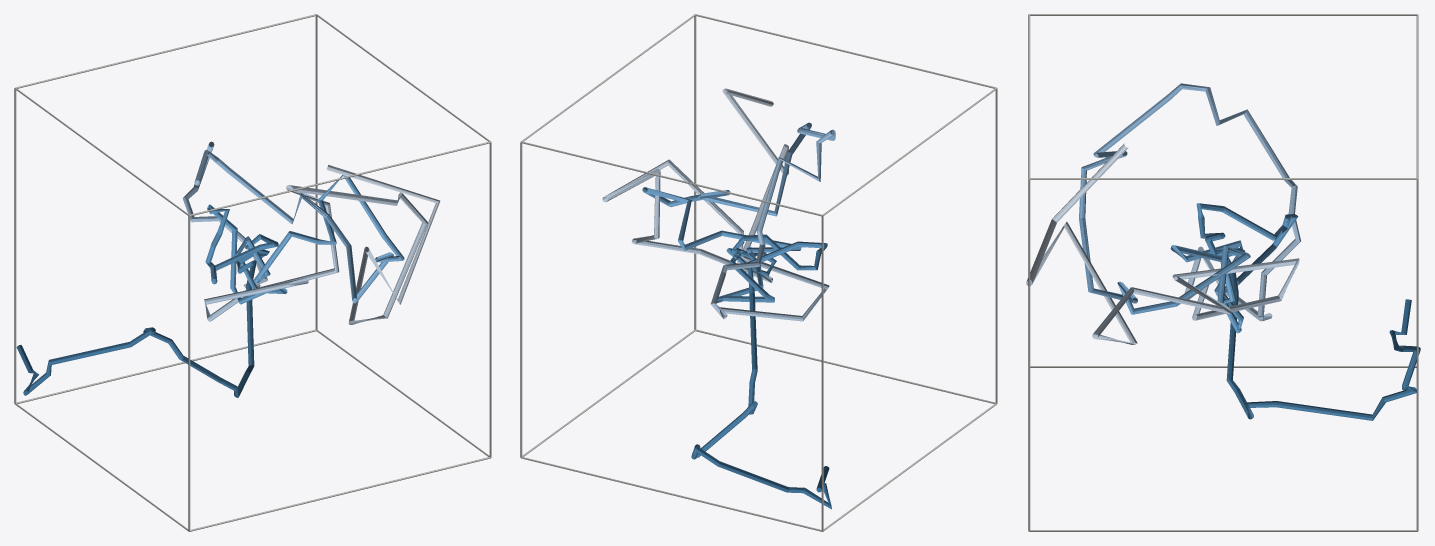
The picture shows the model from 3 angles, left to right: view 1: azimuth 30°, elevation 25°; view 2: azimuth 150°, elevation 25°; view 3: azimuth 270°, elevation 25°; orthographic projection. The views are drawn at different scales.
Parts seen in each view (by area): view 1: geometry_0, geometry_1; view 2: geometry_0, geometry_1; view 3: geometry_0, geometry_1.
Part boxes in pixels (x1,y1,x2,y2): geometry_0: (16,141,440,397); geometry_1: (14,14,491,531); geometry_0: (602,88,835,509); geometry_1: (520,14,997,531); geometry_0: (1026,83,1420,420); geometry_1: (1028,14,1418,531).
Size of the model in its own units: 0.3046 by 0.3014 by 0.3047.
